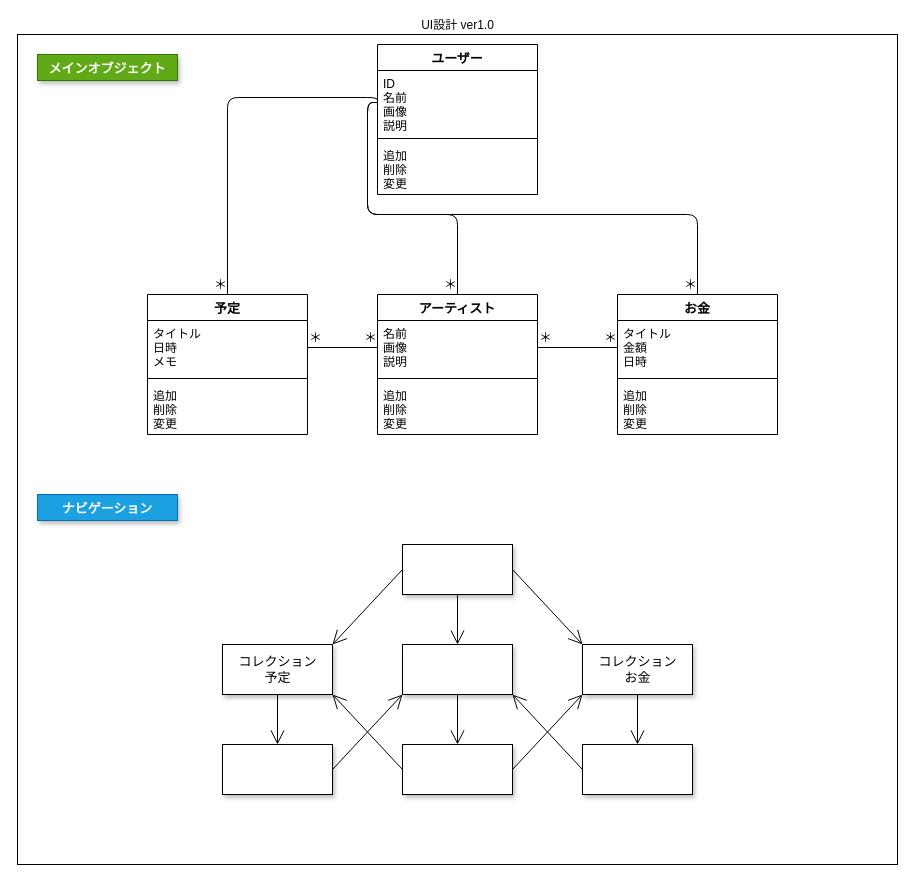
The diagram is 915 pixels wide and 882 high, and some of its shapes have lost their labels. Each missing label, with the centre of its shape:
"コレクション アーティスト" goes at [458,671].
"シングル お金" goes at [638,771].
"シングル アーティスト" goes at [458,771].
"シングル ユーザー" goes at [458,571].
"シングル 予定" goes at [278,771].
